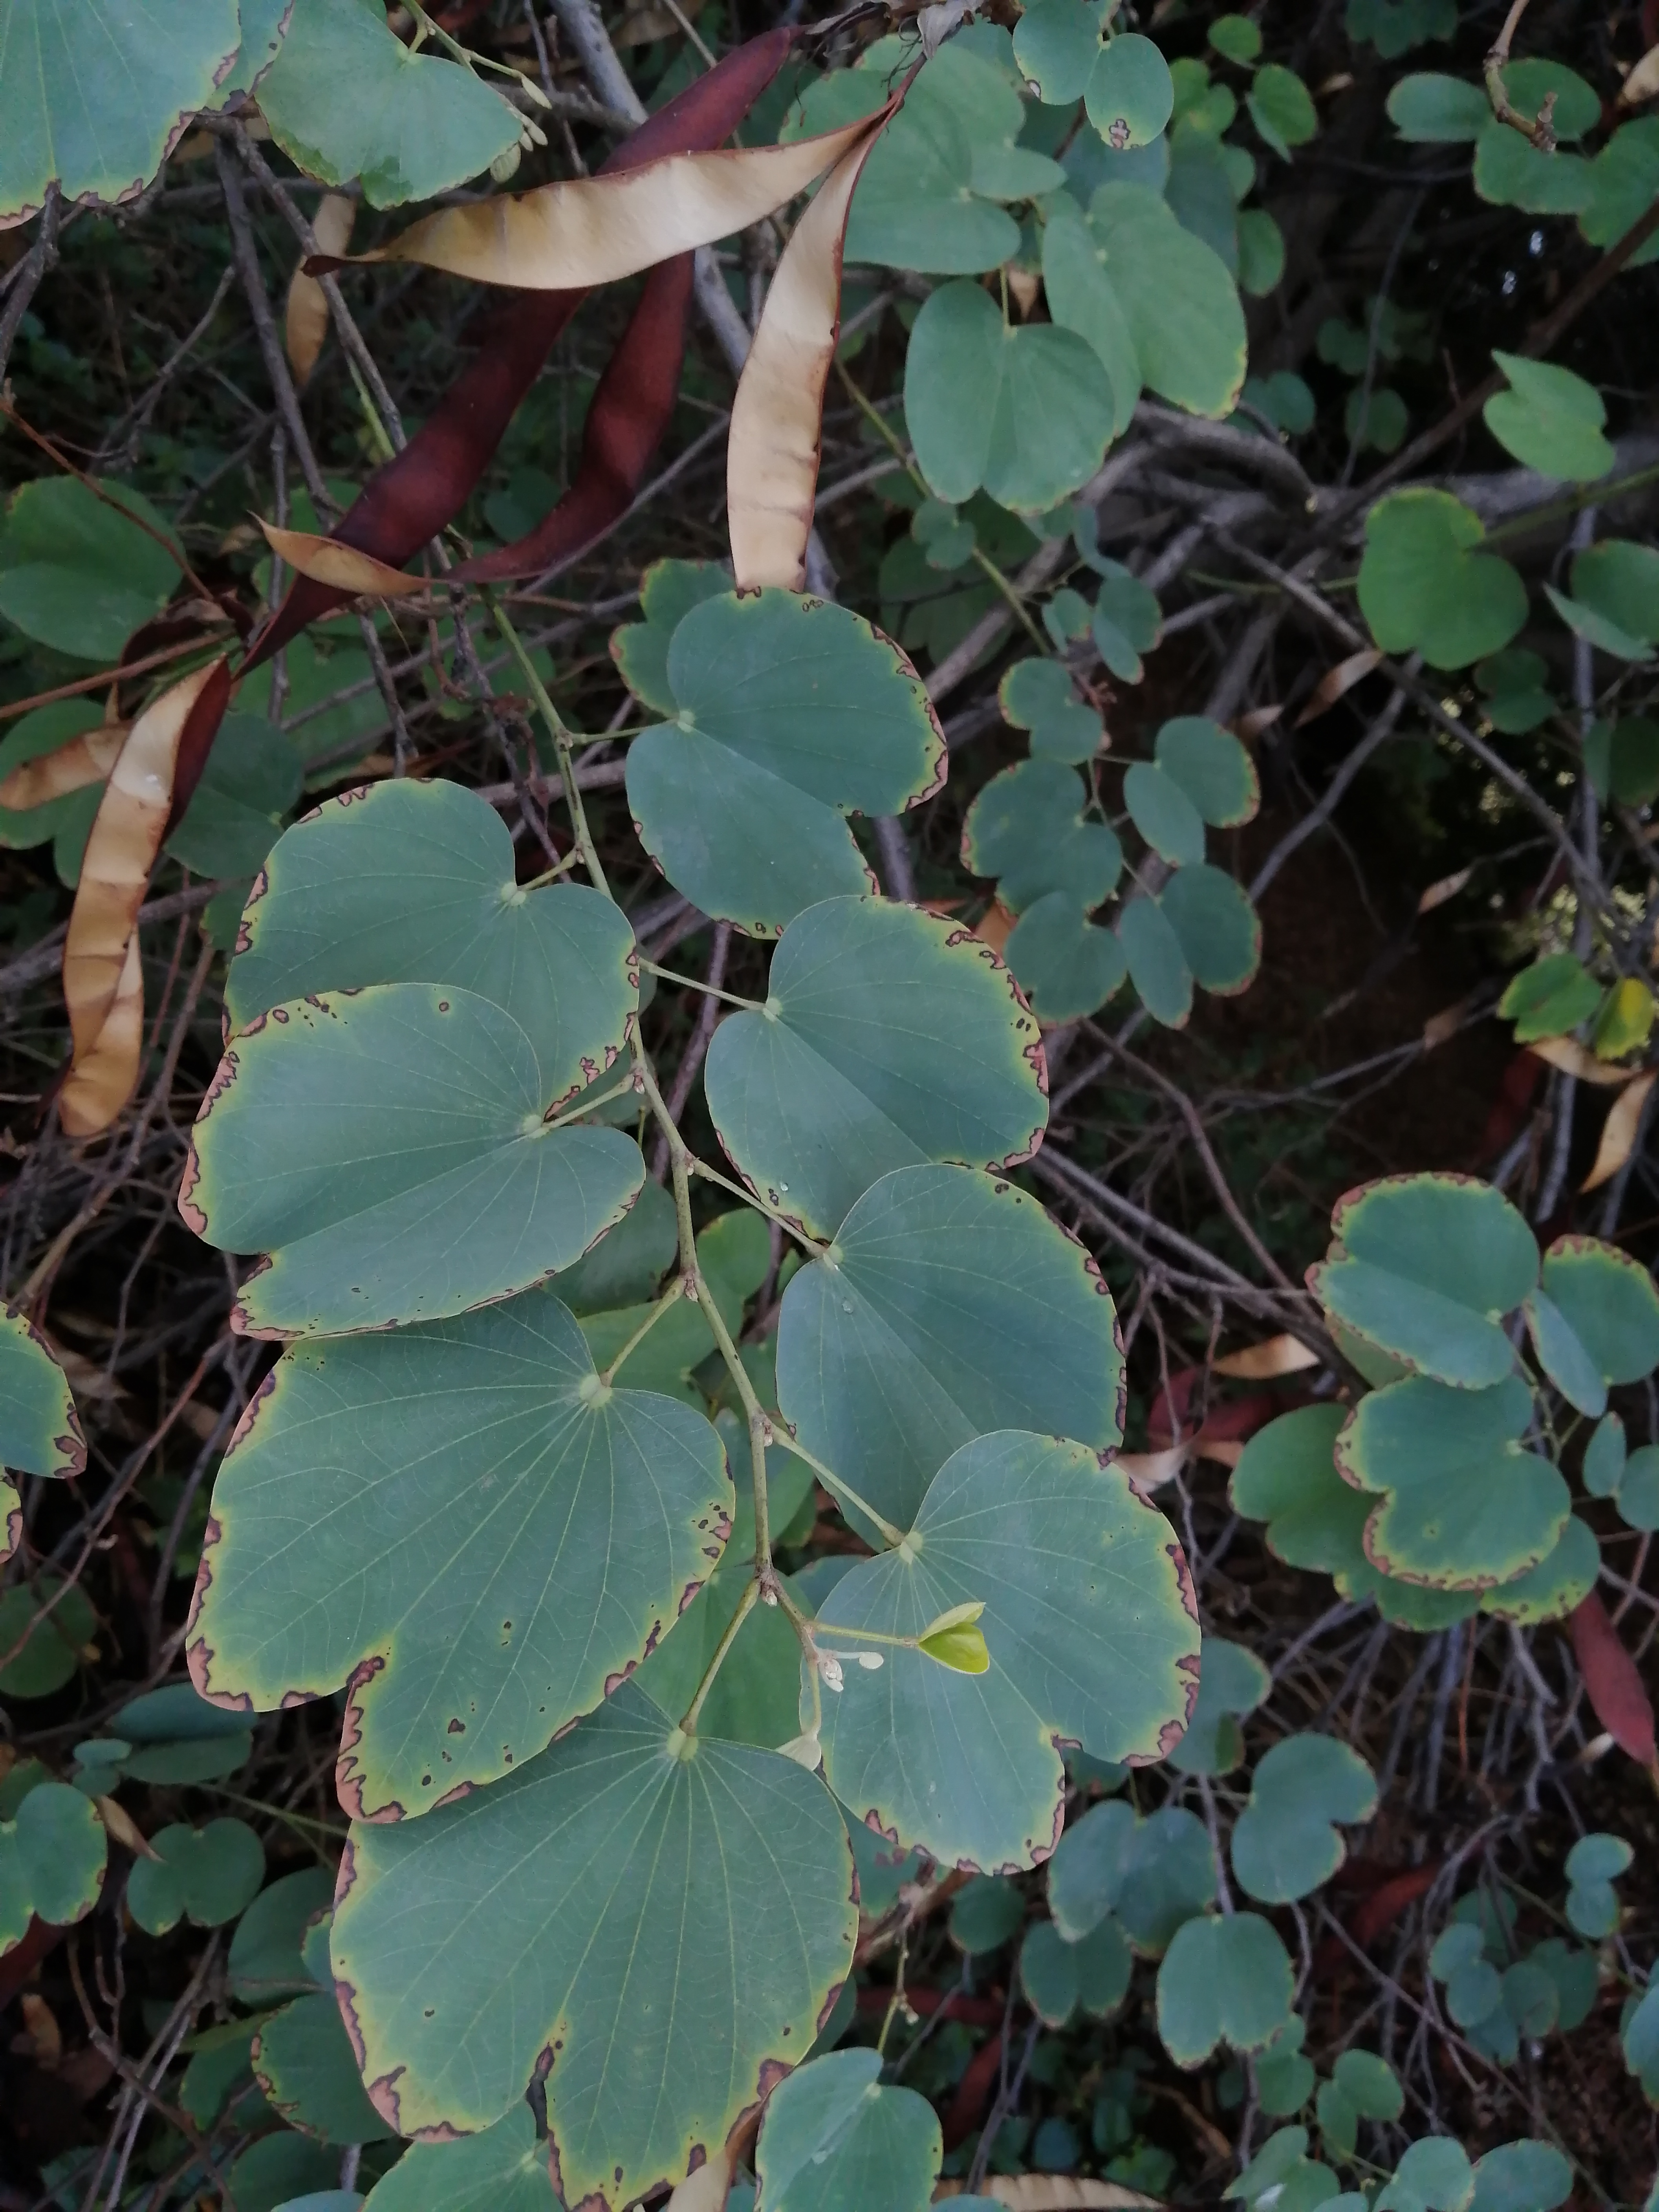healthy: (885, 286, 1129, 529), (1344, 500, 1542, 688)
nothealthy: (171, 1237, 742, 1838), (307, 1665, 885, 2181), (777, 1423, 1220, 1888), (159, 986, 666, 1374), (204, 766, 657, 1153), (676, 887, 1060, 1268), (619, 589, 955, 963), (1309, 1155, 1574, 1378), (1324, 1353, 1554, 1594), (997, 21, 1194, 157)
